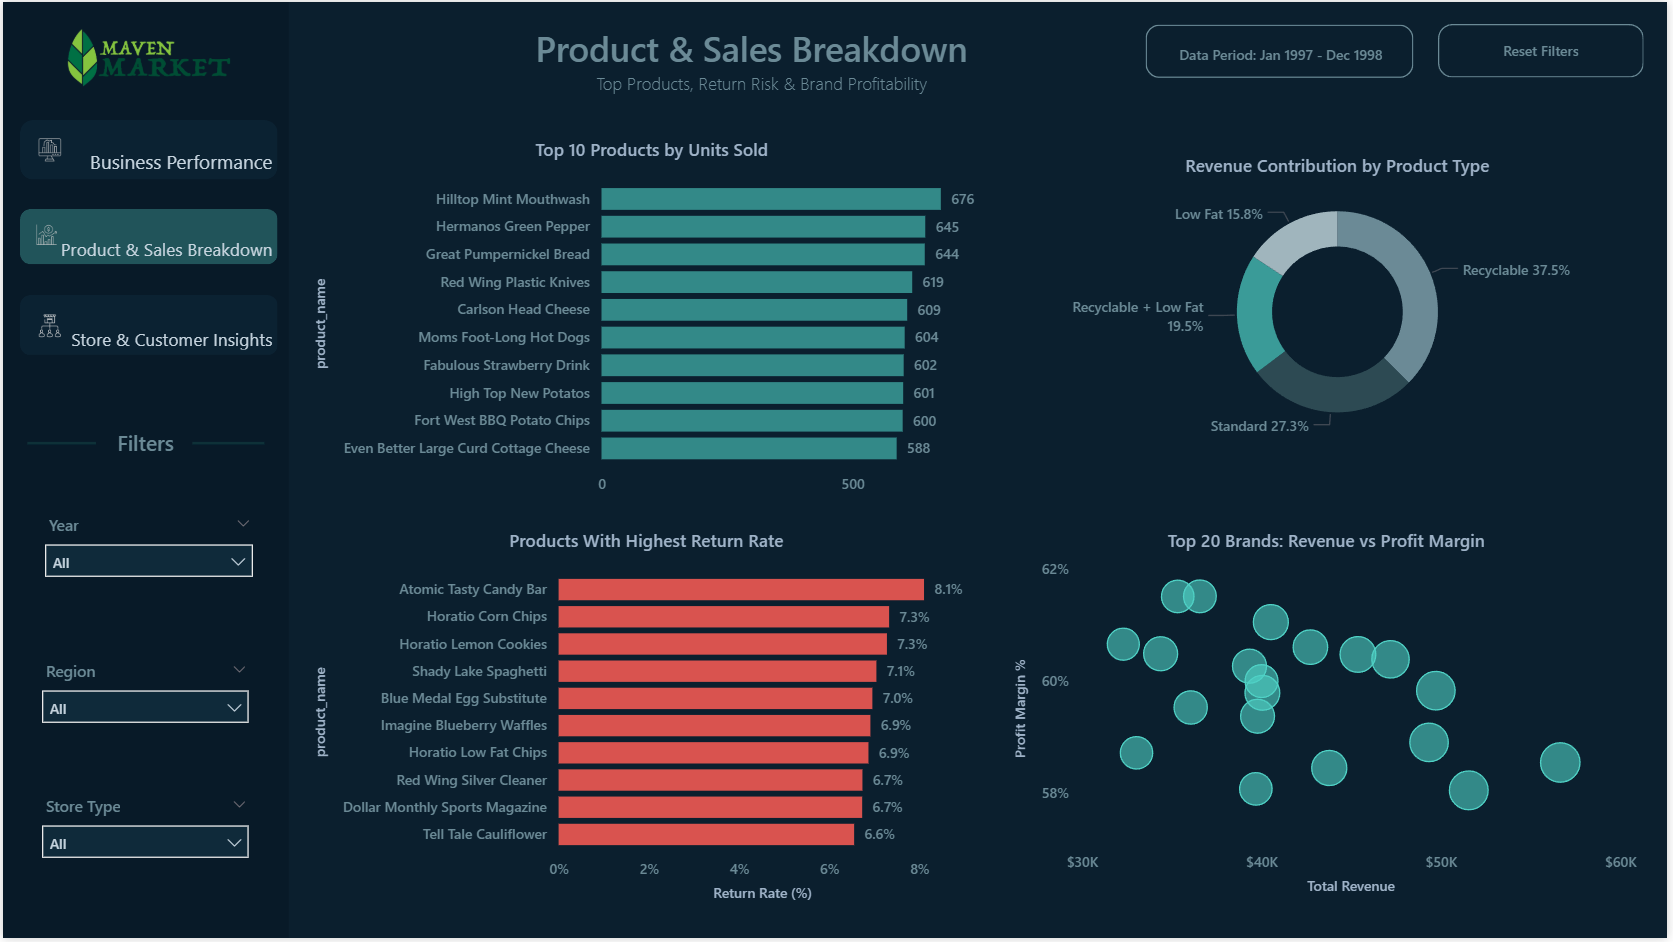

The page's visual inventory and layout, read from the dashboard file:
{"tool":"powerbi","page":{"name":"Product & Sales Breakdown","canvas":[1280,720],"ordinal":1},"visuals":[{"type":"shape","box":[0,0,219.9,719.8],"z":0},{"type":"textbox","box":[46.2,322.9,127,39.9],"z":0,"group":"g4"},{"type":"actionButton","title":"Performance Pulse","box":[13.1,91,198.3,45.8],"z":1000},{"type":"shape","box":[137.5,326.8,71.3,24.9],"z":1000,"group":"g4"},{"type":"image","box":[27.1,104.7,18.3,18.3],"z":2000},{"type":"shape","box":[10.5,326.8,68.7,24.9],"z":2000,"group":"g4"},{"type":"actionButton","title":"Performance Pulse","box":[13.1,159,198.3,42.5],"z":3000,"group":"g2"},{"type":"group","id":"g1","title":"Group 3","box":[13.1,225.1,198.3,46.5],"z":3000},{"type":"group","id":"g2","title":"Group 4","box":[13.1,159,198.3,42.5],"z":4000},{"type":"actionButton","title":"Performance Pulse","box":[13.1,225.1,198.3,46.5],"z":4000,"group":"g1"},{"type":"textbox","box":[342.9,15.7,465.3,73.9],"z":5000},{"type":"image","box":[24.5,170.1,18.3,18.3],"z":5000,"group":"g2"},{"type":"image","box":[27.1,239.5,18.3,18.3],"z":5000,"group":"g1"},{"type":"image","box":[22,17.3,179.3,50],"z":6000},{"type":"group","id":"g3","title":"Group 1","box":[10.5,322.9,198.3,39.9],"z":7000},{"type":"slicer","fields":{"Values":["Calendar.Year"]},"box":[22.2,389,180,60.2],"z":8000},{"type":"slicer","fields":{"Values":["Regions.sales_region"]},"box":[20.3,501.6,179.3,60.2],"z":9000},{"type":"group","id":"g4","title":"Group 2","box":[10.5,322.9,198.3,39.9],"z":9004,"group":"g3"},{"type":"slicer","fields":{"Values":["Stores.store_type"]},"box":[19.6,605.6,179.3,60.2],"z":10000},{"type":"donutChart","title":"Revenue Contribution by Product Type","fields":{"Category":["Products.Product Type"],"Y":["Measures Table.Total Revenue"]},"box":[791.8,117.1,469.9,225.8],"z":11000},{"type":"clusteredBarChart","title":"Top 10 Products by Units Sold","fields":{"Category":["Products.product_name"],"Y":["Measures Table.Quantity_Sold"]},"box":[235.6,104.7,527.4,284],"z":12000},{"type":"clusteredBarChart","title":"Products With Highest Return Rate","fields":{"Category":["Products.product_name"],"Y":["Measures Table.Return Rate %"]},"box":[235.6,405.1,518.9,291.9],"z":13000},{"type":"actionButton","box":[1104,17,158.4,41.2],"z":14000},{"type":"cardVisual","fields":{"Data":["Measures Table.Data Period"]},"box":[876.9,15.7,210.7,45.8],"z":15000},{"type":"scatterChart","title":"Top 20 Brands: Revenue vs Profit Margin","fields":{"X":["Measures Table.Total Revenue"],"Y":["Measures Table.Profit Margin"],"Size":["Measures Table.Quantity_Sold"],"Category":["Products.product_brand"]},"box":[773.5,405.1,488.2,286.6],"z":16000}]}

Visuals, with their boxes in screenshot pixels (x1, y1, x2, y2), scaled from the page's 1280x720 canvas onto the 1673x942 screenshot:
shape: bbox(0, 0, 287, 941)
textbox: bbox(60, 422, 226, 475)
"Performance Pulse" actionButton: bbox(17, 119, 276, 179)
shape: bbox(180, 428, 273, 460)
image: bbox(35, 137, 59, 161)
shape: bbox(14, 428, 104, 460)
"Performance Pulse" actionButton: bbox(17, 208, 276, 264)
"Group 3" group: bbox(17, 295, 276, 355)
"Group 4" group: bbox(17, 208, 276, 264)
"Performance Pulse" actionButton: bbox(17, 295, 276, 355)
textbox: bbox(448, 21, 1056, 117)
image: bbox(32, 223, 56, 246)
image: bbox(35, 313, 59, 337)
image: bbox(29, 23, 263, 88)
"Group 1" group: bbox(14, 422, 273, 475)
slicer - Calendar.Year: bbox(29, 509, 264, 588)
slicer - Regions.sales_region: bbox(27, 656, 261, 735)
"Group 2" group: bbox(14, 422, 273, 475)
slicer - Stores.store_type: bbox(26, 792, 260, 871)
"Revenue Contribution by Product Type" donutChart: bbox(1035, 153, 1649, 449)
"Top 10 Products by Units Sold" clusteredBarChart: bbox(308, 137, 997, 509)
"Products With Highest Return Rate" clusteredBarChart: bbox(308, 530, 986, 912)
actionButton: bbox(1443, 22, 1650, 76)
cardVisual - Measures Table.Data Period: bbox(1146, 21, 1422, 80)
"Top 20 Brands: Revenue vs Profit Margin" scatterChart: bbox(1011, 530, 1649, 905)
